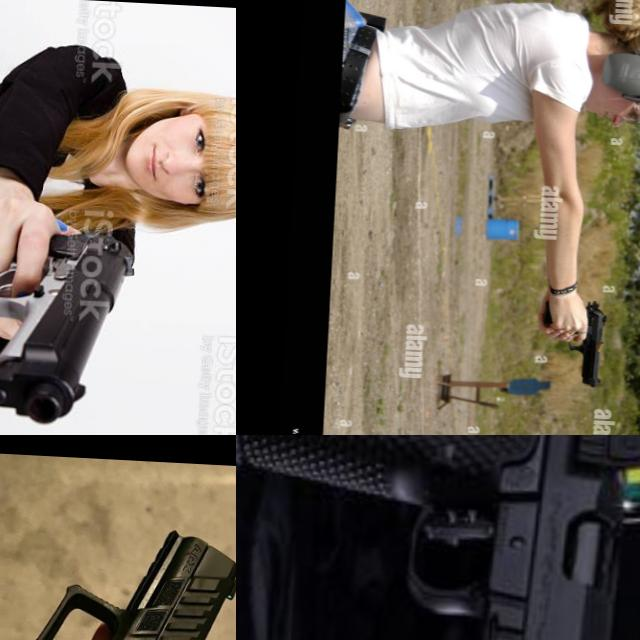handgun: (236, 435, 640, 640), (0, 514, 236, 640), (0, 223, 139, 435), (534, 294, 612, 390)
